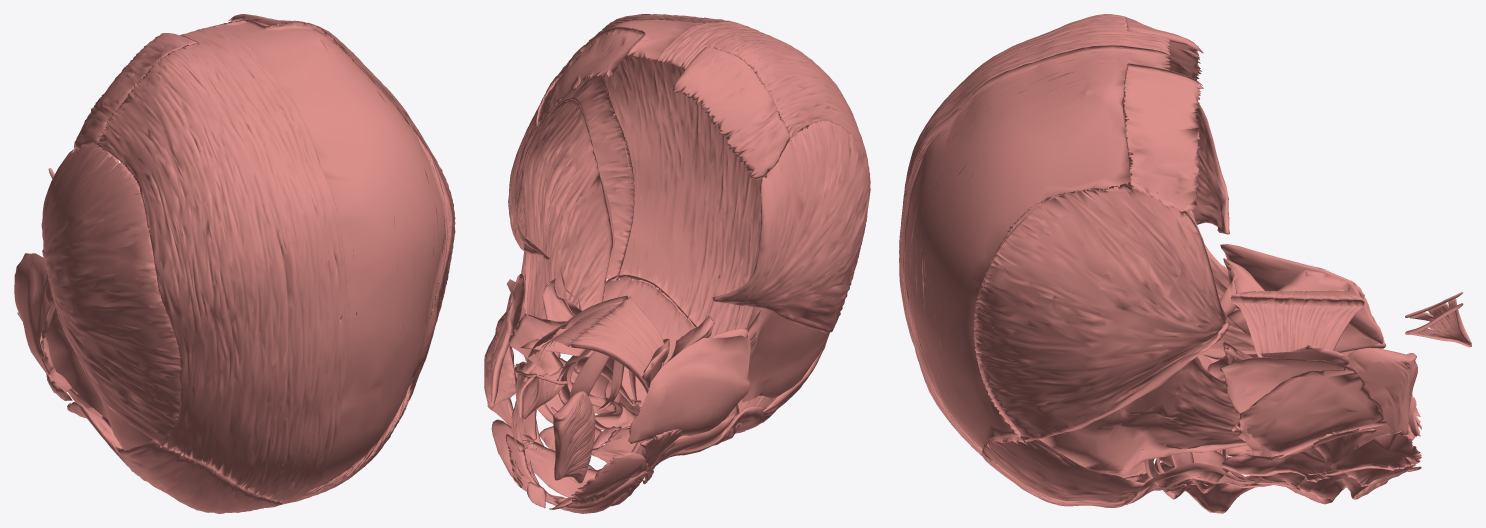
The model's file is head__muscular.8af2f778dd.glb.
3 views of the same model, side by side, from view 1: azimuth 30°, elevation 25°; view 2: azimuth 150°, elevation 25°; view 3: azimuth 270°, elevation 25° (orthographic). The views are drawn at different scales.
Visible parts, largest first — view 1: Epicranial aponeurosis.r, Epicranial aponeurosis.l, Temporoparietalis muscle.r, Frontalis muscle.r, Occipitalis muscle.r, Superficial layer of temporal fascia.r, Masseteric fascia.r, Orbital part of orbicularis oculi.r, Temporoparietalis muscle.l, Zygomaticus major muscle.r; view 2: Epicranial aponeurosis.l, Temporoparietalis muscle.r, Temporalis muscle.l, Epicranial aponeurosis.r, Masseteric fascia.r, Occipitalis muscle.r, Temporoparietalis muscle.l, Superficial layer of temporal fascia.r, Superior pharyngeal constrictor.r, Occipitalis muscle.l, Frontalis muscle.l, Genioglossus muscle.r (+24 smaller); view 3: Temporoparietalis muscle.l, Epicranial aponeurosis.l, Temporalis muscle.l, Occipitalis muscle.l, Superficial part of masseter.l, Frontalis muscle.l, Epicranial aponeurosis.r, Superior pharyngeal constrictor.l, Genioglossus muscle.r, Deep part of masseter.l, Deep part of masseter.r, Temporoparietalis muscle.r (+14 smaller).
Boxes of the visible parts, x1=… form: Epicranial aponeurosis.r: x1=95, y1=26, x2=348, y2=503; Epicranial aponeurosis.l: x1=213, y1=18, x2=453, y2=503; Temporoparietalis muscle.r: x1=41, y1=144, x2=181, y2=444; Frontalis muscle.r: x1=115, y1=440, x2=282, y2=513; Occipitalis muscle.r: x1=74, y1=33, x2=197, y2=149; Superficial layer of temporal fascia.r: x1=48, y1=307, x2=152, y2=450; Masseteric fascia.r: x1=14, y1=253, x2=50, y2=375; Orbital part of orbicularis oculi.r: x1=70, y1=401, x2=128, y2=466; Temporoparietalis muscle.l: x1=409, y1=155, x2=455, y2=384; Zygomaticus major muscle.r: x1=46, y1=368, x2=77, y2=400; Epicranial aponeurosis.l: x1=580, y1=14, x2=761, y2=337; Temporoparietalis muscle.r: x1=712, y1=120, x2=870, y2=333; Temporalis muscle.l: x1=522, y1=99, x2=612, y2=376; Epicranial aponeurosis.r: x1=657, y1=21, x2=868, y2=333; Masseteric fascia.r: x1=628, y1=335, x2=750, y2=443; Occipitalis muscle.r: x1=671, y1=46, x2=789, y2=179; Temporoparietalis muscle.l: x1=508, y1=74, x2=634, y2=280; Superficial layer of temporal fascia.r: x1=742, y1=308, x2=829, y2=402; Superior pharyngeal constrictor.r: x1=571, y1=296, x2=664, y2=393; Occipitalis muscle.l: x1=536, y1=27, x2=645, y2=126; Frontalis muscle.l: x1=574, y1=274, x2=697, y2=416; Genioglossus muscle.r: x1=553, y1=391, x2=595, y2=483; Temporoparietalis muscle.l: x1=973, y1=181, x2=1229, y2=441; Epicranial aponeurosis.l: x1=899, y1=45, x2=1170, y2=463; Temporalis muscle.l: x1=1041, y1=356, x2=1247, y2=476; Occipitalis muscle.l: x1=1122, y1=63, x2=1203, y2=211; Superficial part of masseter.l: x1=1231, y1=367, x2=1386, y2=460; Frontalis muscle.l: x1=982, y1=435, x2=1145, y2=507; Epicranial aponeurosis.r: x1=899, y1=14, x2=1170, y2=253; Superior pharyngeal constrictor.l: x1=1231, y1=296, x2=1364, y2=357; Genioglossus muscle.r: x1=1346, y1=347, x2=1417, y2=444; Deep part of masseter.l: x1=1220, y1=357, x2=1382, y2=418; Deep part of masseter.r: x1=1220, y1=244, x2=1383, y2=344; Temporoparietalis muscle.r: x1=1191, y1=103, x2=1229, y2=234.
Bounding box in the file's own units: 156 × 199 × 222.
